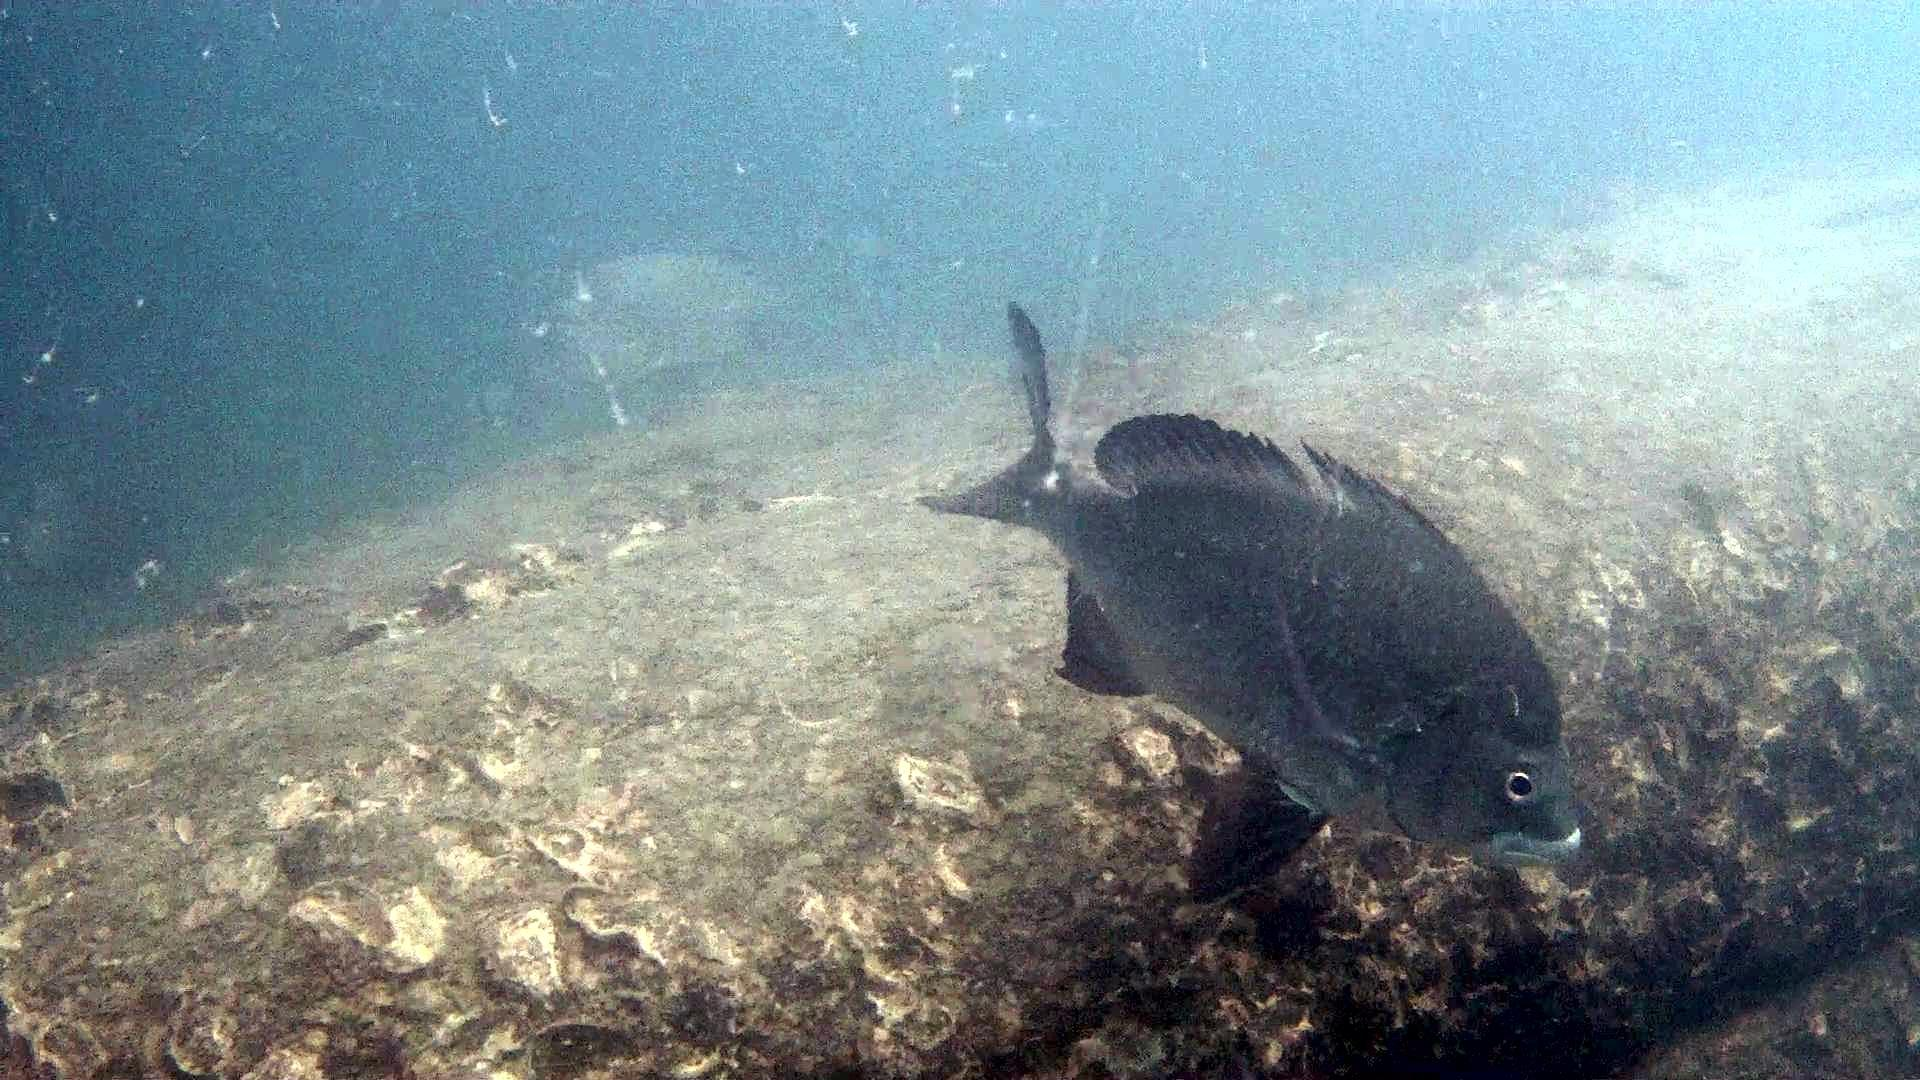acanthopagrus palmaris: (908, 285, 1616, 907)
